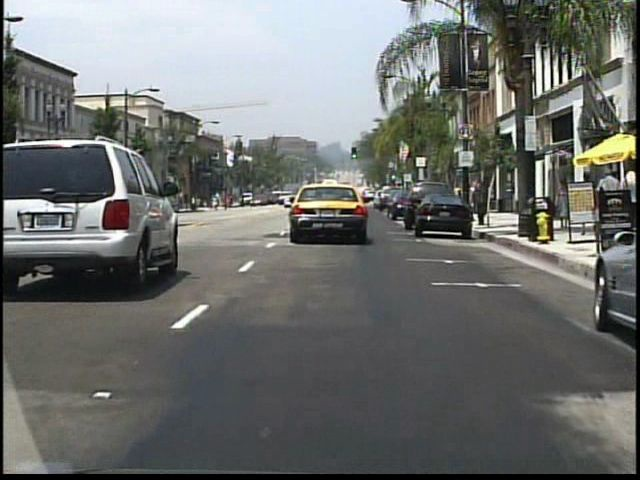person: (606, 168, 639, 227), (594, 166, 620, 220), (579, 170, 599, 233), (551, 180, 570, 231), (239, 194, 247, 209)
